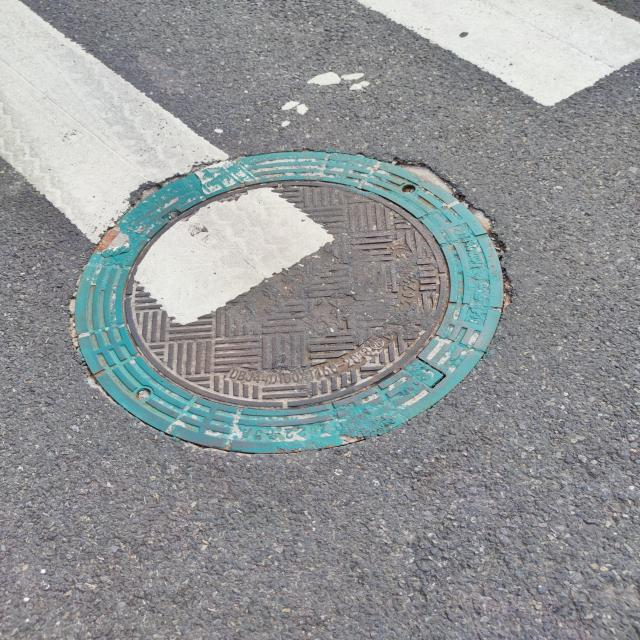Good: (66, 147, 509, 460)
